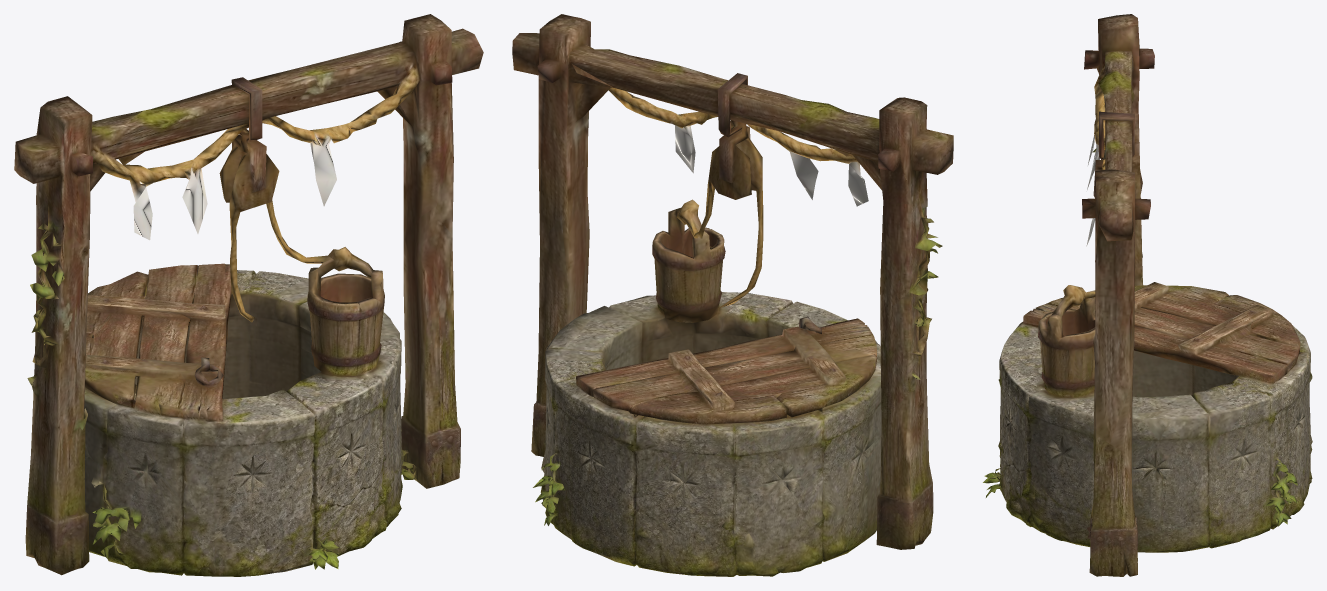
The model's file is court_starwell.glb.
The picture shows the model from 3 angles, left to right: view 1: azimuth 30°, elevation 25°; view 2: azimuth 150°, elevation 25°; view 3: azimuth 270°, elevation 25°; orthographic projection. The views are drawn at different scales.
Visible parts, largest first — view 1: stone well 3d model; view 2: stone well 3d model; view 3: stone well 3d model.
Boxes of the visible parts, x1,y1,x2,y2 form: stone well 3d model: [14, 14, 483, 576]; stone well 3d model: [512, 14, 953, 576]; stone well 3d model: [983, 14, 1312, 576].
Size of the model in its own units: 2.71 by 2.6 by 1.96.
1 material, 1 textured.
